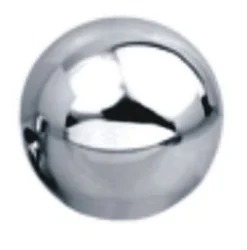ironball: (19, 16, 223, 220)
